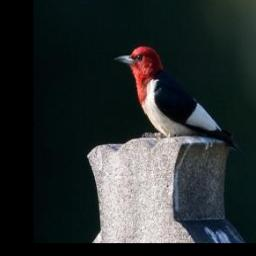Woodpecker: (110, 43, 245, 158)
